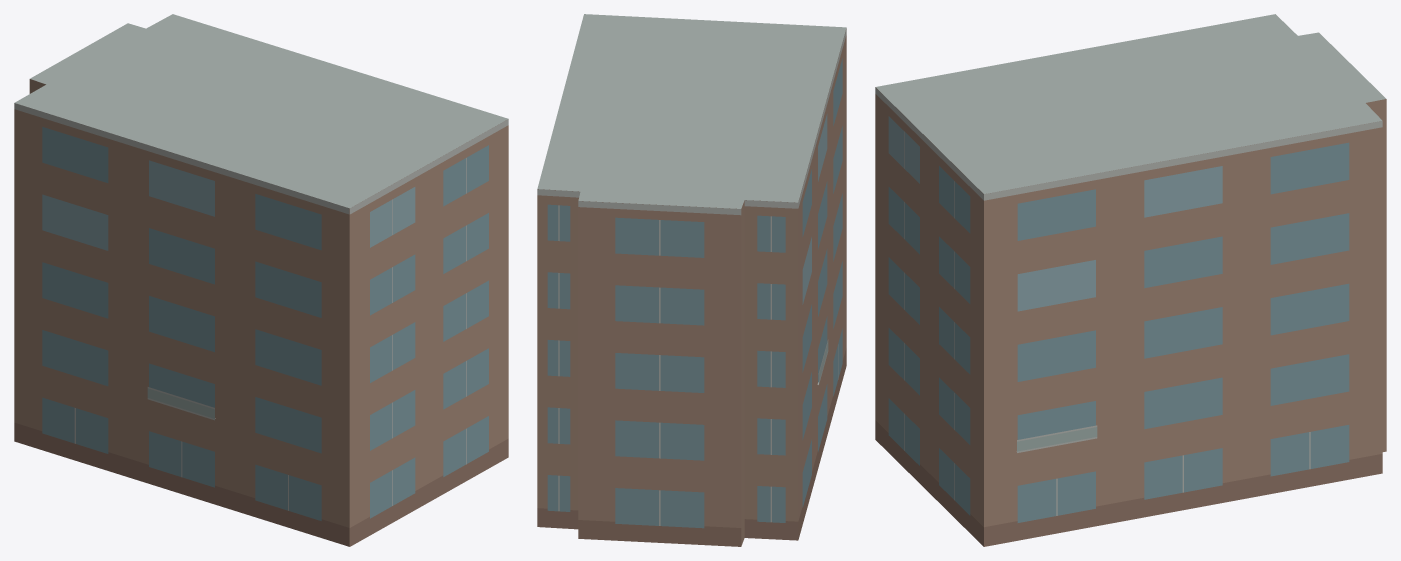
File: survey-upis-32894310.glb
3 renders of one model, left to right at view 1: azimuth 30°, elevation 25°; view 2: azimuth 150°, elevation 25°; view 3: azimuth 270°, elevation 25°, orthographic. The views are drawn at different scales.
Parts seen in each view (by area): view 1: survey-upis-32894310.tmp; view 2: survey-upis-32894310.tmp; view 3: survey-upis-32894310.tmp.
Part boxes in pixels (x1,y1,x2,y2): survey-upis-32894310.tmp: (14, 14, 508, 546); survey-upis-32894310.tmp: (537, 14, 846, 546); survey-upis-32894310.tmp: (875, 14, 1386, 546).
Bounding box in the file's own units: 14.59 × 13.3 × 17.48.
